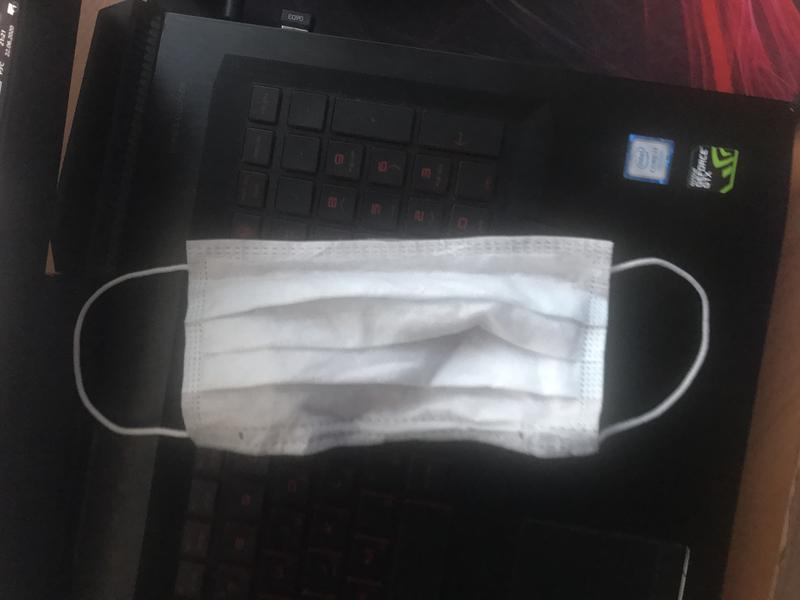medical_mask: (74, 234, 711, 457)
